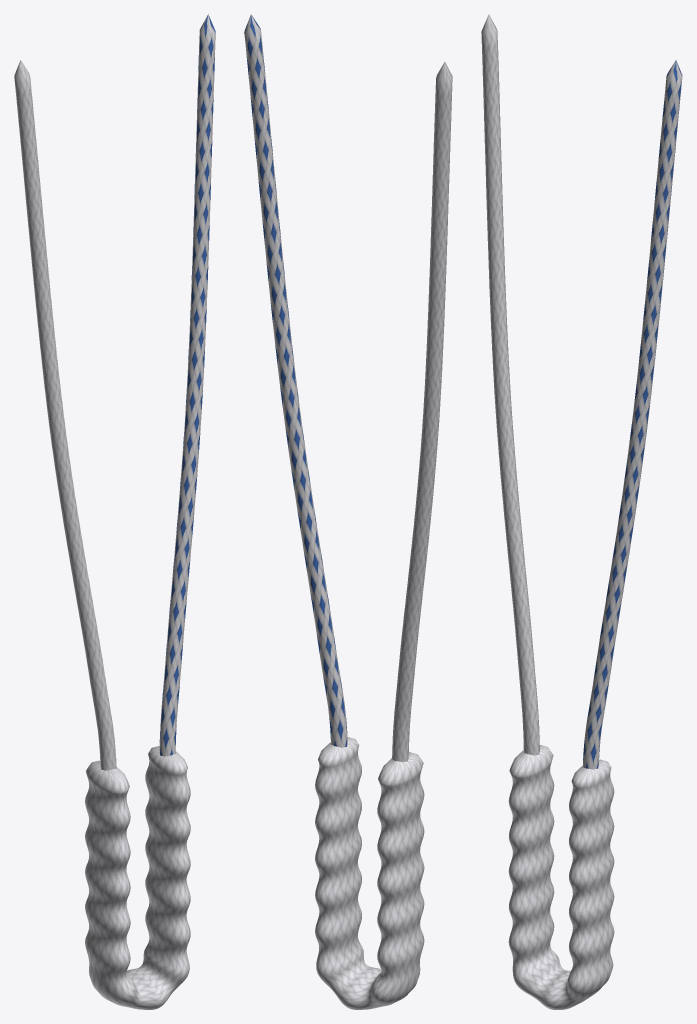
The model's file is s9_sutureloc_2p8x18_lod0.glb.
The picture shows the model from 3 angles, left to right: view 1: azimuth 30°, elevation 25°; view 2: azimuth 150°, elevation 25°; view 3: azimuth 330°, elevation 25°; orthographic projection. The views are drawn at different scales.
Parts seen in each view (by area): view 1: s9_sutureloc_2p8x18; view 2: s9_sutureloc_2p8x18; view 3: s9_sutureloc_2p8x18.
Boxes of the visible parts, x1,y1,x2,y2 form: s9_sutureloc_2p8x18: [14, 14, 215, 1009]; s9_sutureloc_2p8x18: [244, 14, 452, 1009]; s9_sutureloc_2p8x18: [481, 14, 682, 1009].
Size of the model in its own units: 0.00831 by 0.0378 by 0.0031.
Materials: 2 (2 with a texture image).
